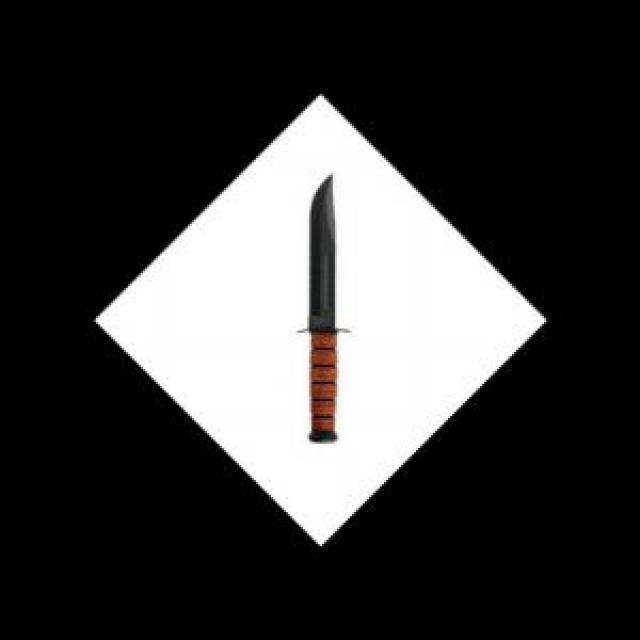knife: (297, 162, 355, 459)
